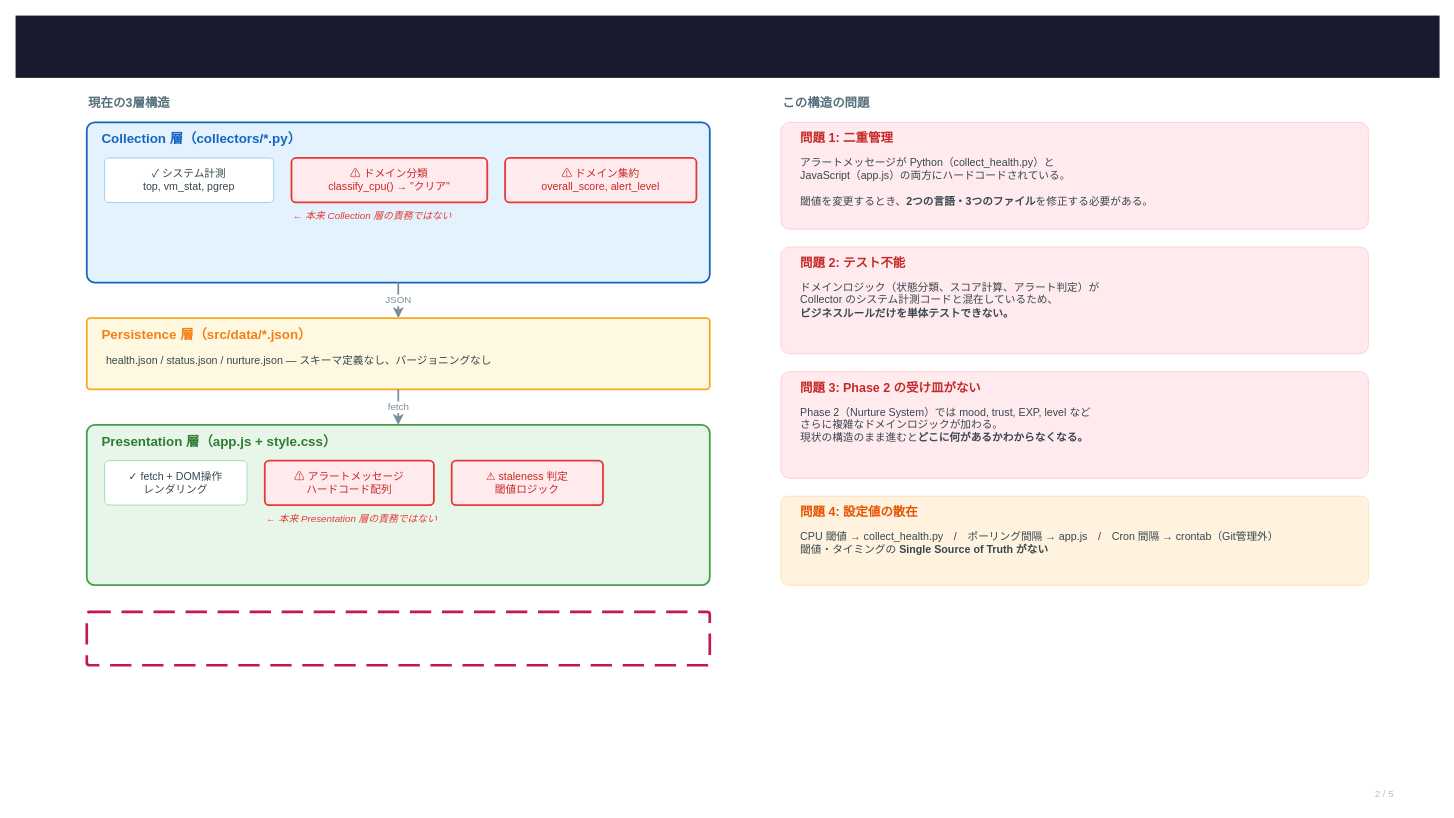
Image size: 1454x818. Some labels were removed from this diagram. The centre of each missing label's shape, as x and y in pixels:
"❌ Domain 層が存在しない" belongs at point 398,638.
"現状アーキテクチャの課題" belongs at point 727,46.
